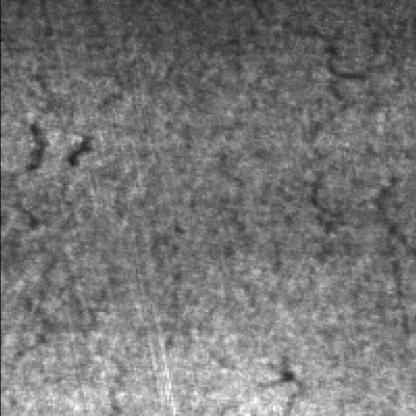crazing: (164, 4, 283, 370), (4, 95, 117, 378), (312, 75, 416, 337), (289, 2, 412, 108)
